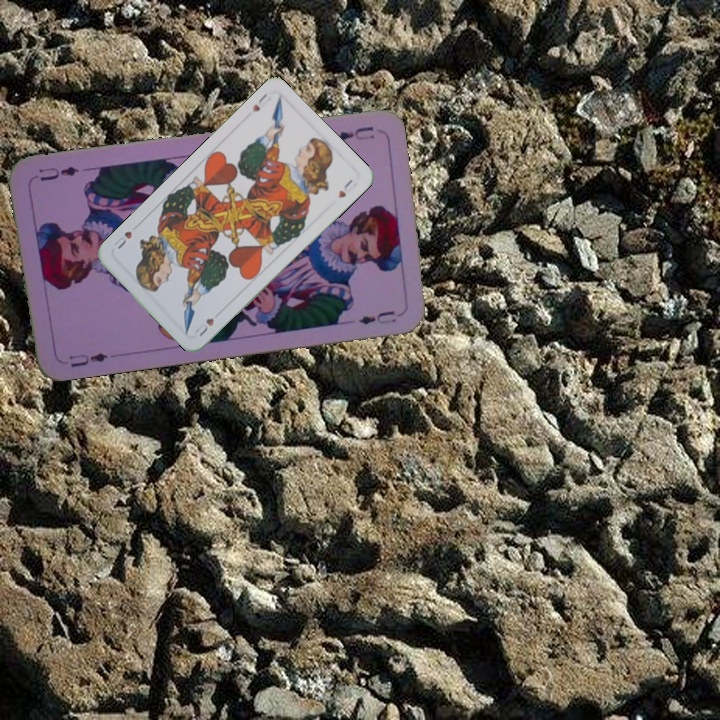EU: (65, 348, 110, 370), (332, 122, 377, 143)
HU: (248, 89, 274, 115), (191, 314, 217, 339)
